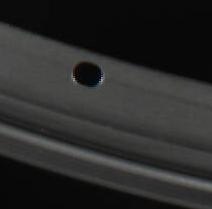holes: (72, 60, 104, 88)
